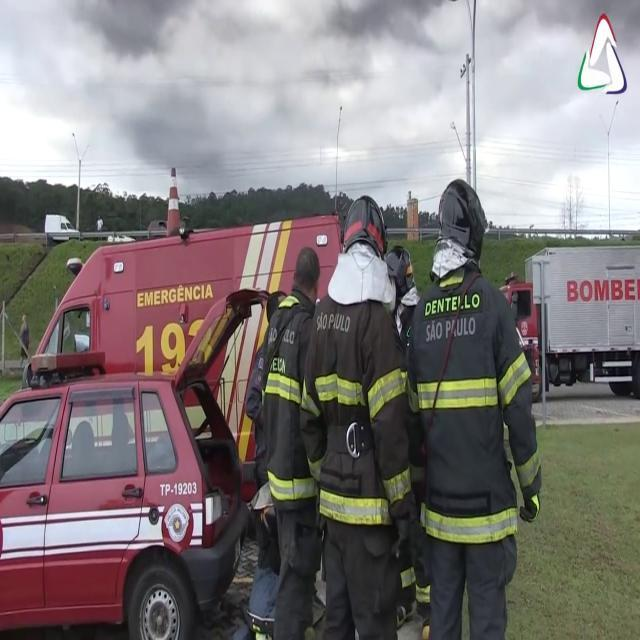Smoke: (119, 79, 238, 193)
